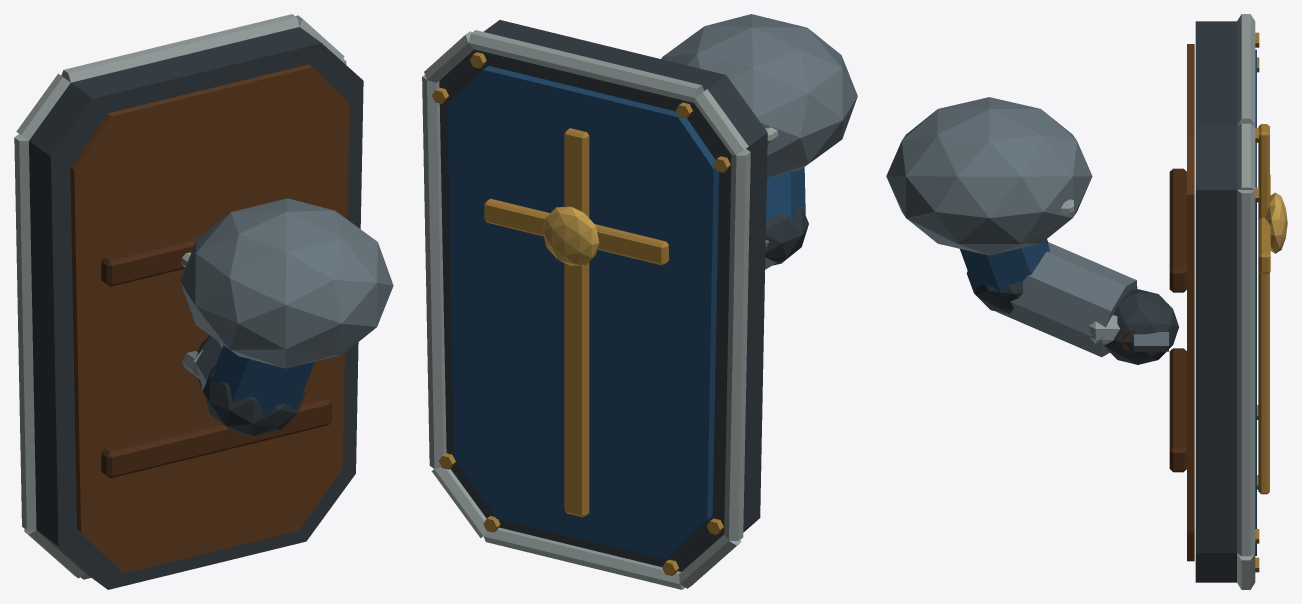
Rendered from ArmLeft.glb.
3 views of the same model, side by side, from view 1: azimuth 30°, elevation 25°; view 2: azimuth 150°, elevation 25°; view 3: azimuth 270°, elevation 25° (orthographic). The views are drawn at different scales.
Visible parts, largest first — view 1: Sculpture; view 2: Sculpture; view 3: Sculpture.
Boxes of the visible parts, x1,y1,x2,y2 form: Sculpture: (14,14,393,589); Sculpture: (422,14,857,589); Sculpture: (886,14,1287,589).
Size of the model in its own units: 0.8581 by 1.28 by 0.973.
